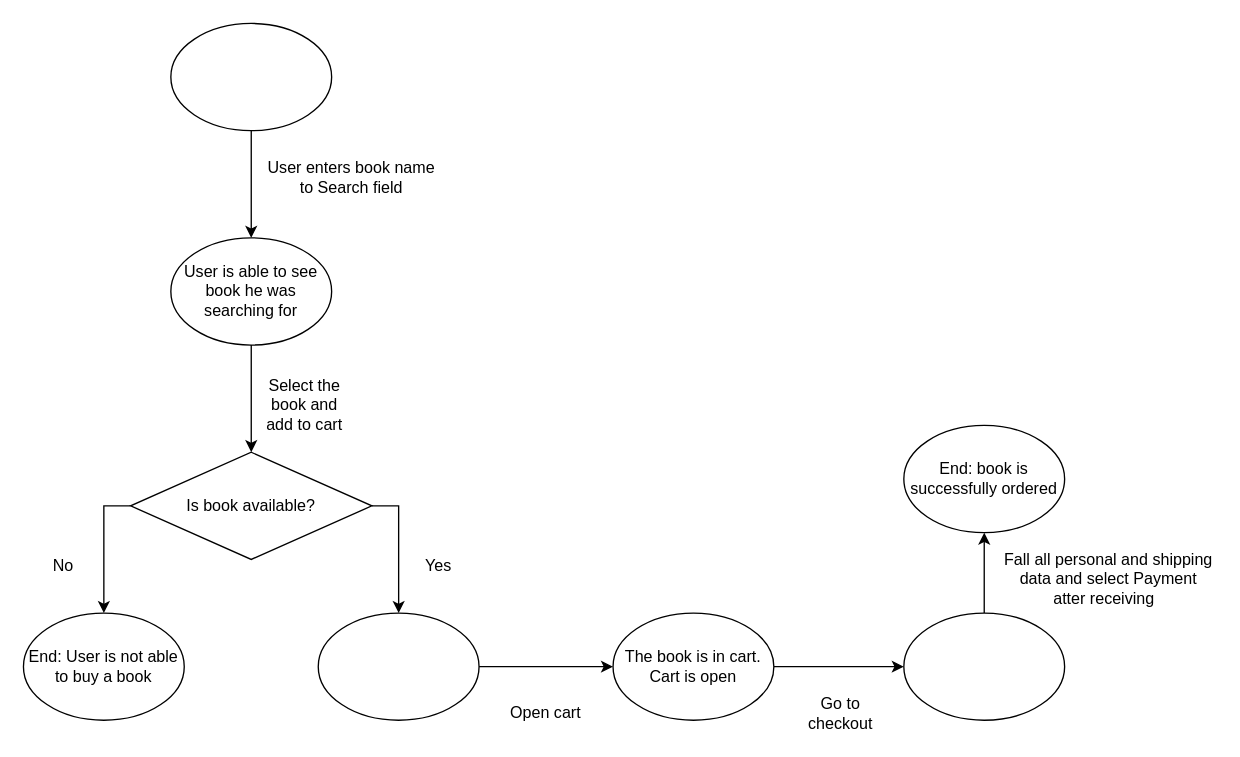
Image size: 1240x757. Some labels were removed from this diagram. Each missing label, with the centre of its shape:
Book is added to cart: the point at 398,666
User is logget in: the point at 251,76
User is on checkout page: the point at 983,666
